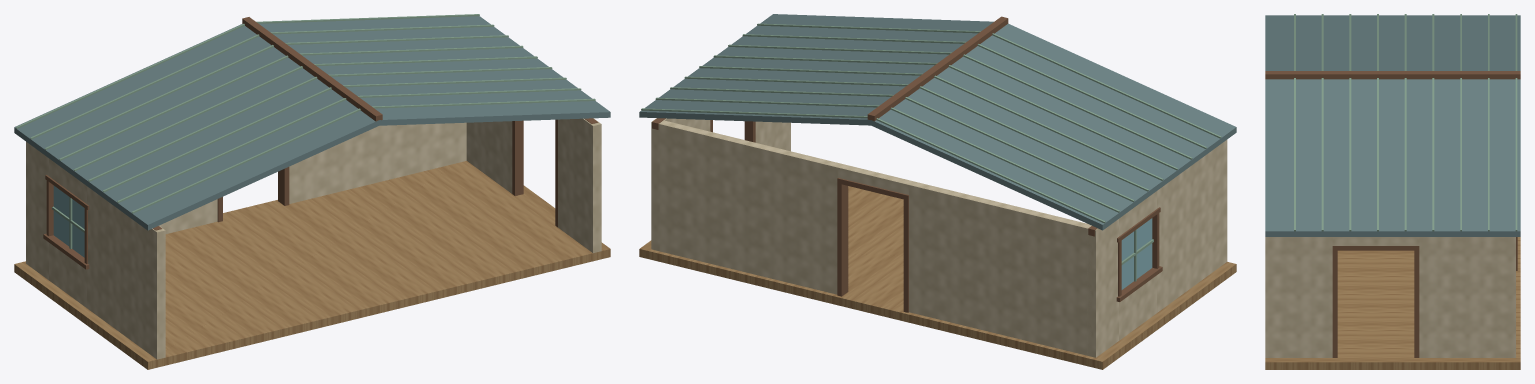
The model's file is rear_annex.glb.
3 views of the same model, side by side, from view 1: azimuth 30°, elevation 25°; view 2: azimuth 150°, elevation 25°; view 3: azimuth 270°, elevation 25° (orthographic). The views are drawn at different scales.
Visible parts, largest first — view 1: Annex_Floor-col, Roof_Annex_-1, Roof_Annex_1, Annex_West_2_0-col, Annex_Rear_2_0-col, Annex_East_2_0-col, Annex_West_0_0-col, Annex_East_0_0-col, Roof_Annex_Ridge, Annex_West_1_0-col, Annex_West_Window_Glazing-col, Annex_Rear_0_0-col (+20 smaller); view 2: Roof_Annex_-1, Annex_Rear_0_0-col, Annex_Rear_2_0-col, Roof_Annex_1, Annex_Floor-col, Annex_West_2_0-col, Annex_West_0_0-col, Roof_Annex_Ridge, Annex_East_0_0-col, Annex_West_1_0-col, Annex_West_Window_Glazing-col, Annex_Rear_Exit_Jamb1-col (+22 smaller); view 3: Roof_Annex_1, Roof_Annex_-1, Annex_Floor-col, Annex_East_0_0-col, Annex_East_2_0-col, Roof_Annex_Ridge, Annex_East_1_1-col, Loading_Access_Jamb1-col, Loading_Access_Jamb-1-col, Roof_Annex_Seam_1_3, Roof_Annex_Seam_1_4, Roof_Annex_Seam_1_6 (+7 smaller).
Boxes of the visible parts, box(x1,y1,x2,y2) form: Annex_Floor-col: box(14, 161, 610, 369); Roof_Annex_-1: box(14, 24, 379, 230); Roof_Annex_1: box(259, 16, 610, 125); Annex_West_2_0-col: box(87, 186, 165, 359); Annex_Rear_2_0-col: box(289, 122, 466, 203); Annex_East_2_0-col: box(558, 118, 601, 253); Annex_West_0_0-col: box(26, 142, 48, 280); Annex_East_0_0-col: box(466, 121, 512, 193); Roof_Annex_Ridge: box(242, 17, 382, 121); Annex_West_1_0-col: box(49, 243, 86, 307); Annex_West_Window_Glazing-col: box(53, 185, 84, 257); Annex_Rear_0_0-col: box(159, 199, 217, 233); Roof_Annex_-1: box(871, 23, 1236, 230); Annex_Rear_0_0-col: box(909, 181, 1091, 356); Annex_Rear_2_0-col: box(659, 120, 842, 294); Roof_Annex_1: box(639, 14, 993, 125); Annex_Floor-col: box(639, 186, 1236, 369); Annex_West_2_0-col: box(1157, 140, 1227, 312); Annex_West_0_0-col: box(1087, 219, 1118, 357); Roof_Annex_Ridge: box(867, 16, 1008, 121); Annex_East_0_0-col: box(651, 118, 710, 251); Annex_West_1_0-col: box(1119, 275, 1156, 340); Annex_West_Window_Glazing-col: box(1121, 218, 1152, 289); Annex_Rear_Exit_Jamb1-col: box(837, 183, 848, 296); Roof_Annex_1: box(1265, 79, 1520, 236); Roof_Annex_-1: box(1265, 15, 1520, 70); Annex_Floor-col: box(1265, 237, 1520, 369); Annex_East_0_0-col: box(1419, 237, 1515, 357); Annex_East_2_0-col: box(1265, 237, 1332, 357); Roof_Annex_Ridge: box(1265, 71, 1520, 79); Annex_East_1_1-col: box(1332, 237, 1419, 245); Loading_Access_Jamb1-col: box(1332, 250, 1337, 357); Loading_Access_Jamb-1-col: box(1414, 250, 1419, 357); Roof_Annex_Seam_1_3: box(1432, 78, 1434, 231); Roof_Annex_Seam_1_4: box(1404, 78, 1406, 231); Roof_Annex_Seam_1_6: box(1349, 78, 1351, 231).
Size of the model in its own units: 12.01 by 4.9 by 6.
6 materials, 2 textured.
